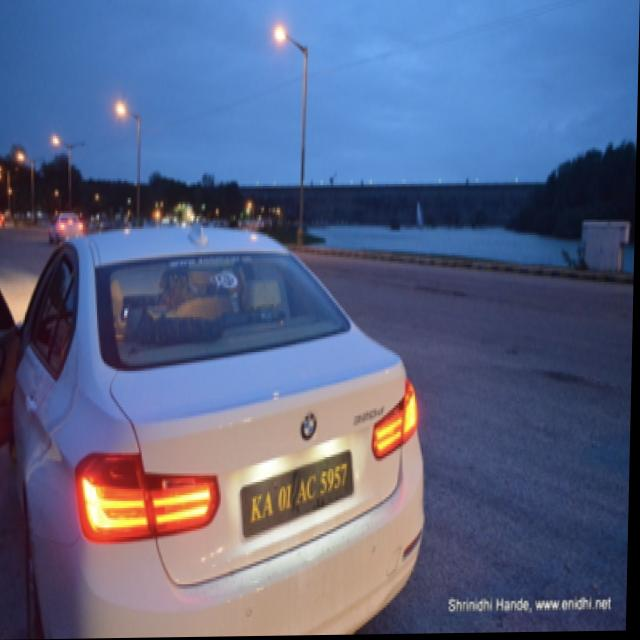licence: (242, 436, 359, 553)
